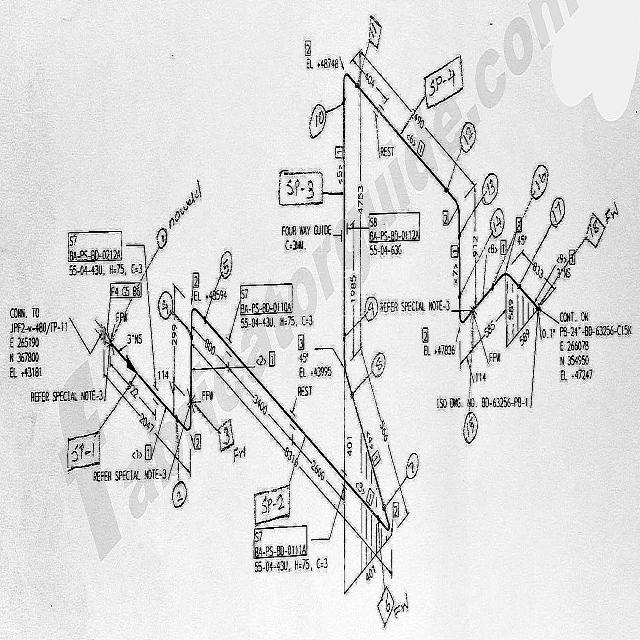Item number: (65, 228, 124, 263), (238, 281, 294, 305), (109, 279, 142, 299), (416, 136, 427, 161), (371, 447, 382, 470), (366, 485, 376, 508), (499, 238, 508, 257), (268, 349, 276, 370), (194, 431, 201, 454), (192, 270, 200, 290), (421, 325, 429, 345), (515, 214, 523, 234), (334, 144, 343, 161), (145, 442, 152, 463), (393, 499, 400, 520), (442, 208, 449, 228), (305, 39, 312, 58), (569, 248, 576, 267), (296, 334, 304, 350), (450, 244, 458, 260)
Measrement: (192, 341, 393, 583), (357, 45, 480, 192), (103, 367, 192, 481), (358, 345, 412, 520), (229, 361, 293, 445), (293, 433, 345, 508), (109, 353, 157, 425), (518, 245, 559, 297), (349, 55, 391, 105), (193, 321, 229, 376), (474, 297, 506, 351), (357, 89, 363, 352), (470, 179, 481, 311), (459, 341, 489, 389), (349, 218, 357, 364), (158, 367, 176, 415), (171, 283, 178, 387), (127, 332, 143, 348), (557, 266, 571, 282), (517, 233, 527, 249), (299, 351, 309, 365)
Pipeline: (113, 66, 541, 539)
Symbol: (443, 180, 466, 242), (338, 328, 356, 403), (490, 268, 522, 297), (340, 64, 360, 109), (188, 299, 207, 343), (174, 394, 194, 435), (457, 289, 476, 328), (95, 316, 114, 354), (375, 501, 391, 539), (125, 349, 139, 381)
Weld number: (530, 161, 550, 202), (459, 118, 478, 155), (481, 173, 500, 206), (549, 195, 566, 230), (171, 479, 188, 511), (489, 206, 505, 240), (157, 289, 173, 321), (370, 352, 388, 379), (405, 452, 420, 481)
other: (539, 302, 634, 384), (1, 302, 77, 381), (252, 523, 331, 575), (362, 296, 455, 333), (278, 224, 336, 253), (435, 395, 529, 412), (367, 228, 421, 257), (240, 314, 316, 330), (69, 263, 144, 278), (297, 364, 333, 379), (305, 57, 342, 71), (193, 289, 229, 303), (423, 344, 456, 359)
